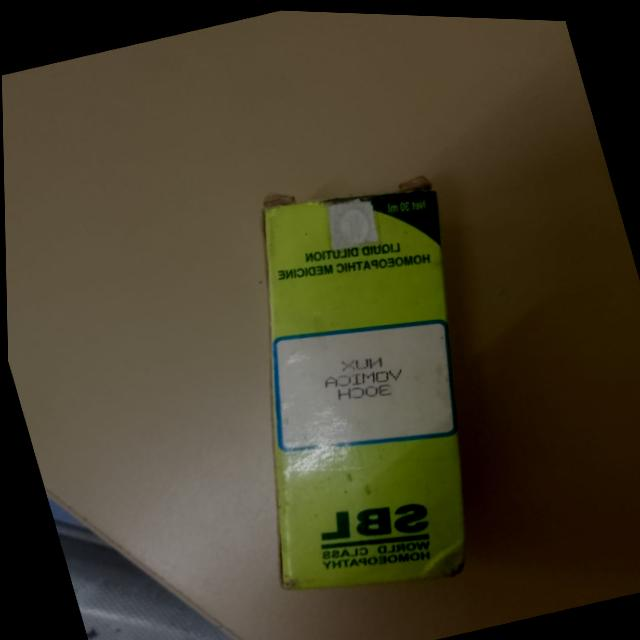medicine: (241, 168, 484, 598)
